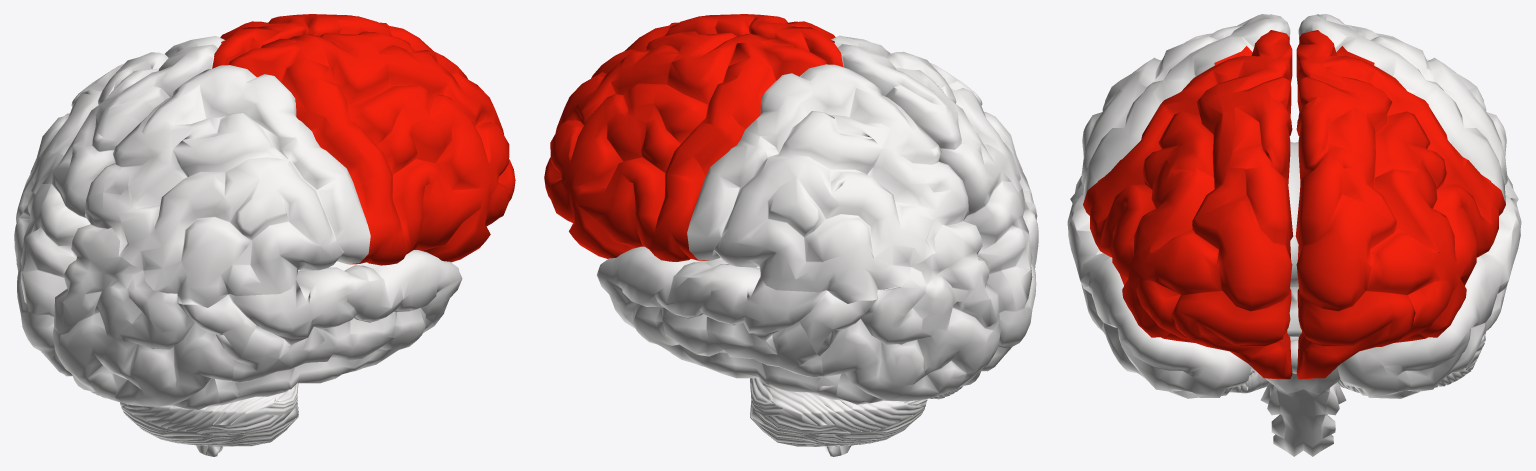
Rendered from brain.new.model.glb.
3 views of the same model, side by side, from view 1: azimuth 30°, elevation 25°; view 2: azimuth 150°, elevation 25°; view 3: azimuth 270°, elevation 25° (orthographic). The views are drawn at different scales.
Visible parts, largest first — view 1: Material2.002, Material2.006, Material2.005, Material2.001, Material2.009; view 2: Material2.002, Material2.006, Material2.005, Material2.001, Material2.009; view 3: Material2.006, Material2.001, Material2.002, Material2.004, Material2.008, Material2.009.
Boxes of the visible parts, bbox=[...] form: Material2.002: bbox=[22, 36, 370, 307]; Material2.006: bbox=[212, 14, 515, 265]; Material2.005: bbox=[14, 183, 256, 409]; Material2.001: bbox=[205, 250, 462, 407]; Material2.009: bbox=[90, 383, 298, 446]; Material2.002: bbox=[687, 35, 1030, 303]; Material2.006: bbox=[544, 14, 843, 261]; Material2.005: bbox=[799, 181, 1038, 404]; Material2.001: bbox=[597, 246, 846, 401]; Material2.009: bbox=[750, 378, 963, 446]; Material2.006: bbox=[1083, 30, 1505, 379]; Material2.001: bbox=[1067, 176, 1521, 398]; Material2.002: bbox=[1081, 14, 1507, 203]; Material2.004: bbox=[1251, 287, 1346, 456]; Material2.008: bbox=[1288, 142, 1300, 287]; Material2.009: bbox=[1230, 332, 1485, 393].
Bounding box in the file's own units: 6.42 × 5.62 × 5.28.
